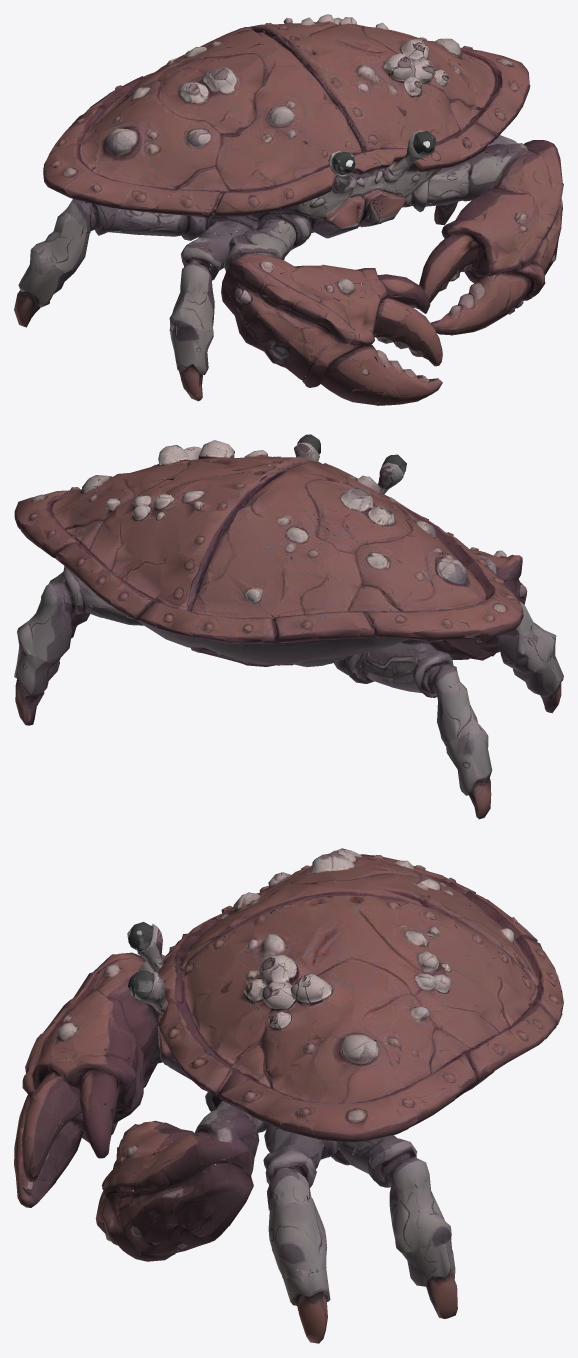
The picture shows the model from 3 angles, top to bottom: view 1: azimuth 30°, elevation 25°; view 2: azimuth 150°, elevation 25°; view 3: azimuth 270°, elevation 25°; orthographic projection. The views are drawn at different scales.
Visible parts, largest first — view 1: Mesh_0; view 2: Mesh_0; view 3: Mesh_0.
Boxes of the visible parts, <box> form: Mesh_0: <box>14,14,563,405</box>; Mesh_0: <box>14,434,563,819</box>; Mesh_0: <box>14,848,563,1343</box>.
Size of the model in its own units: 1.9 by 0.988 by 1.57.
Materials: 1 (1 with a texture image).
